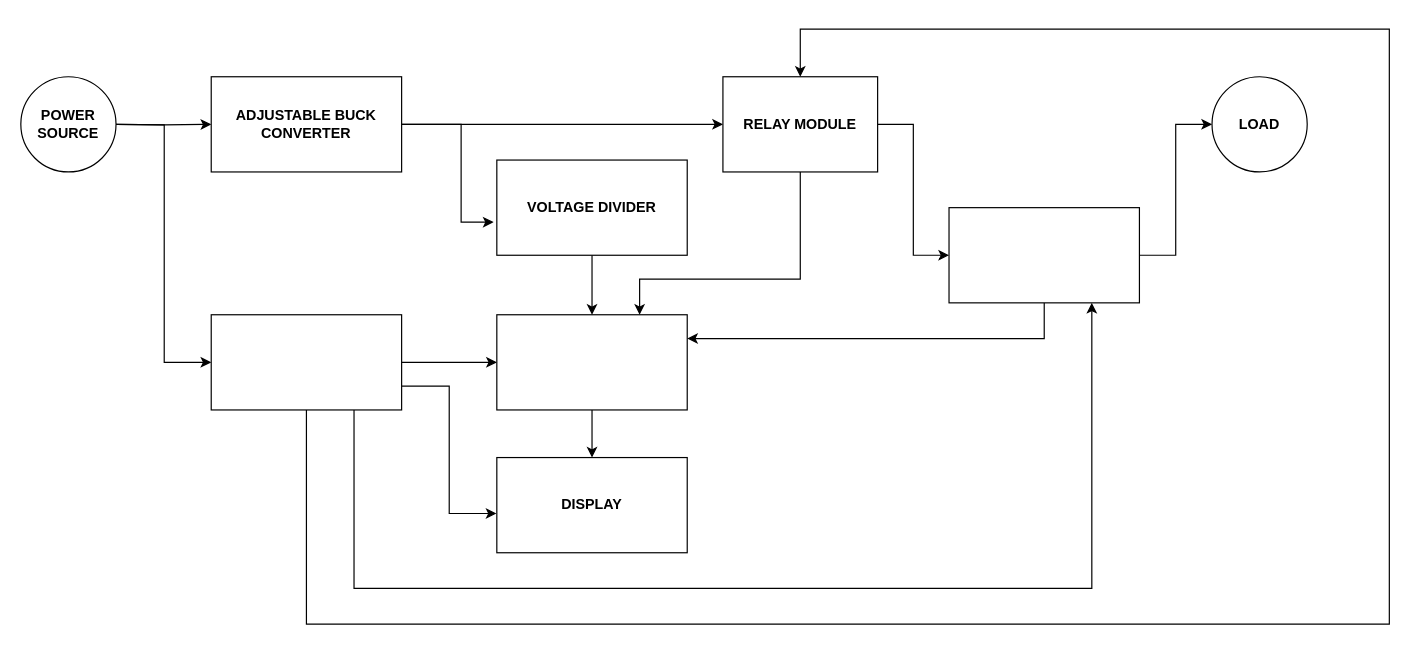
Image size: 1420x655. Some labels were removed from this diagram. The shapes that lost their labels are listed below. From the top down, each one's box as (x1, y1, x2, y2) in pixels, then its label:
(948, 206, 1139, 303): CURRENT SENSOR
(210, 314, 402, 410): FIXED 5V BUCK CONVERTER
(496, 314, 687, 410): ARDUINO NANO
